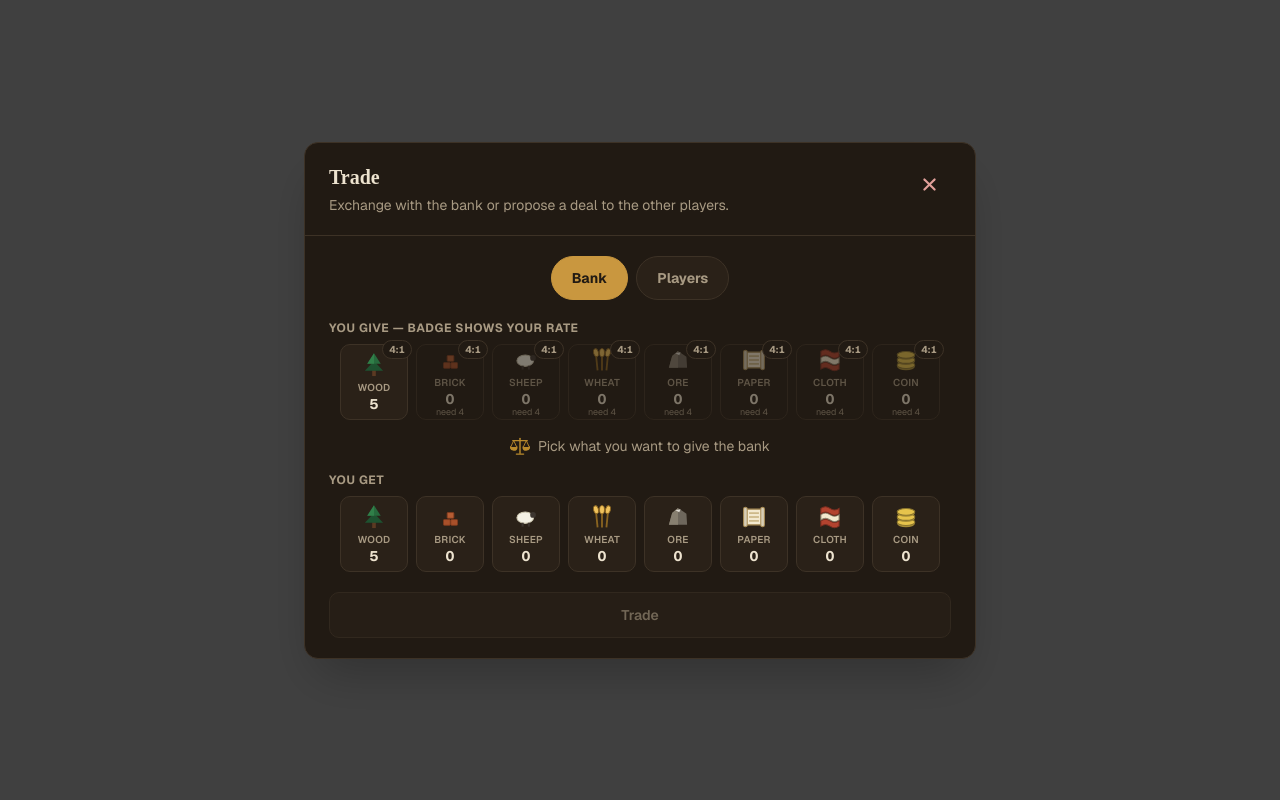
Scenario: TradeModal — bank › surfaces a failed bank trade without clearing the selection
The width and height of the screenshot is (1280, 800).
Click the button with aria-label "Give Wood": (374, 382) [340,344,408,420]
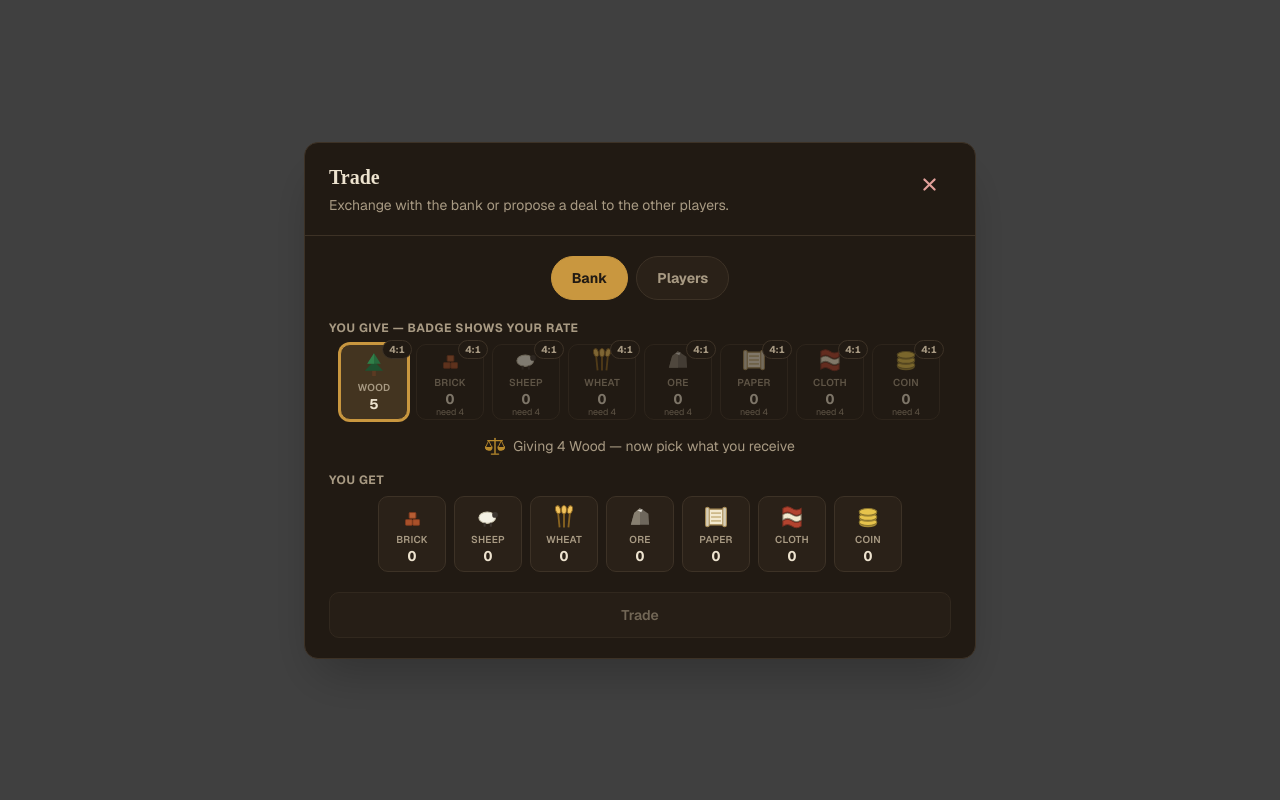
Click the button with aria-label "Receive Ore": (640, 534) [606,496,674,572]
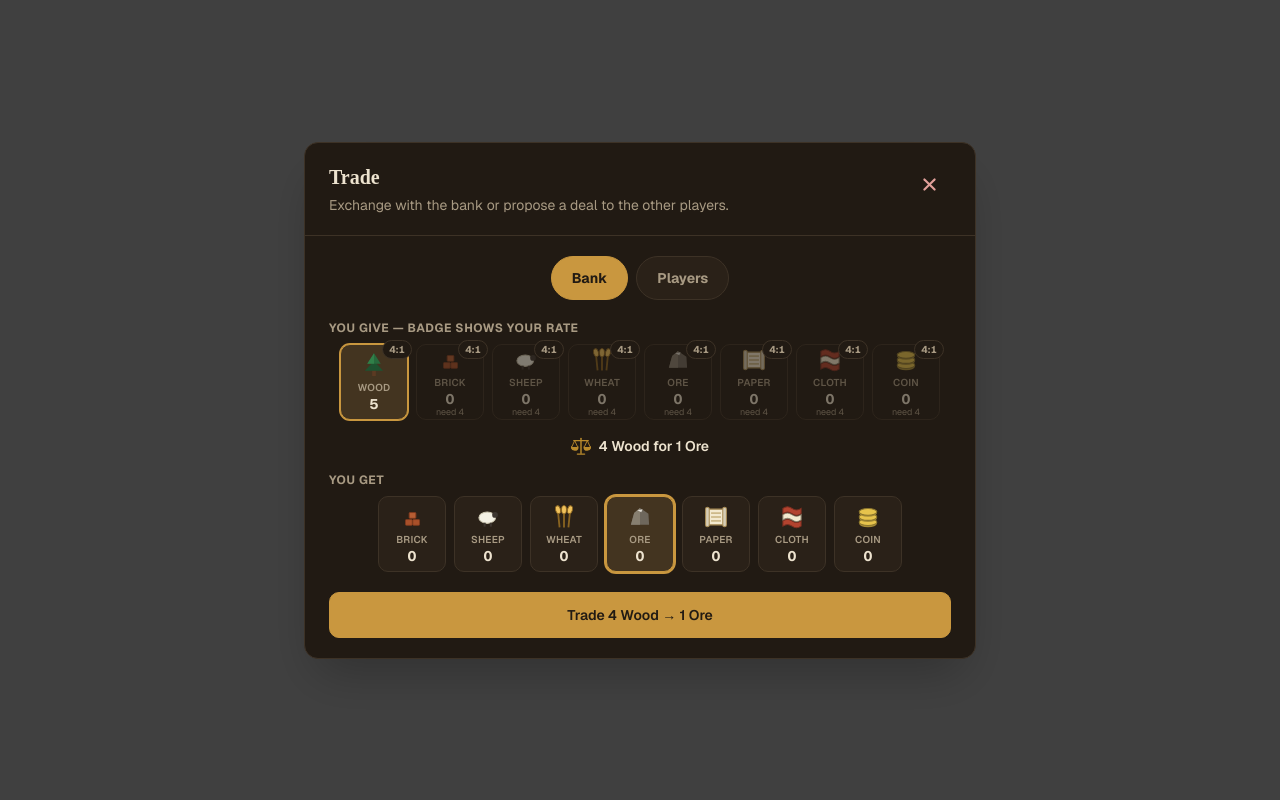
Click the button "Trade 4 Wood → 1 Ore": (640, 614) [329,592,951,638]
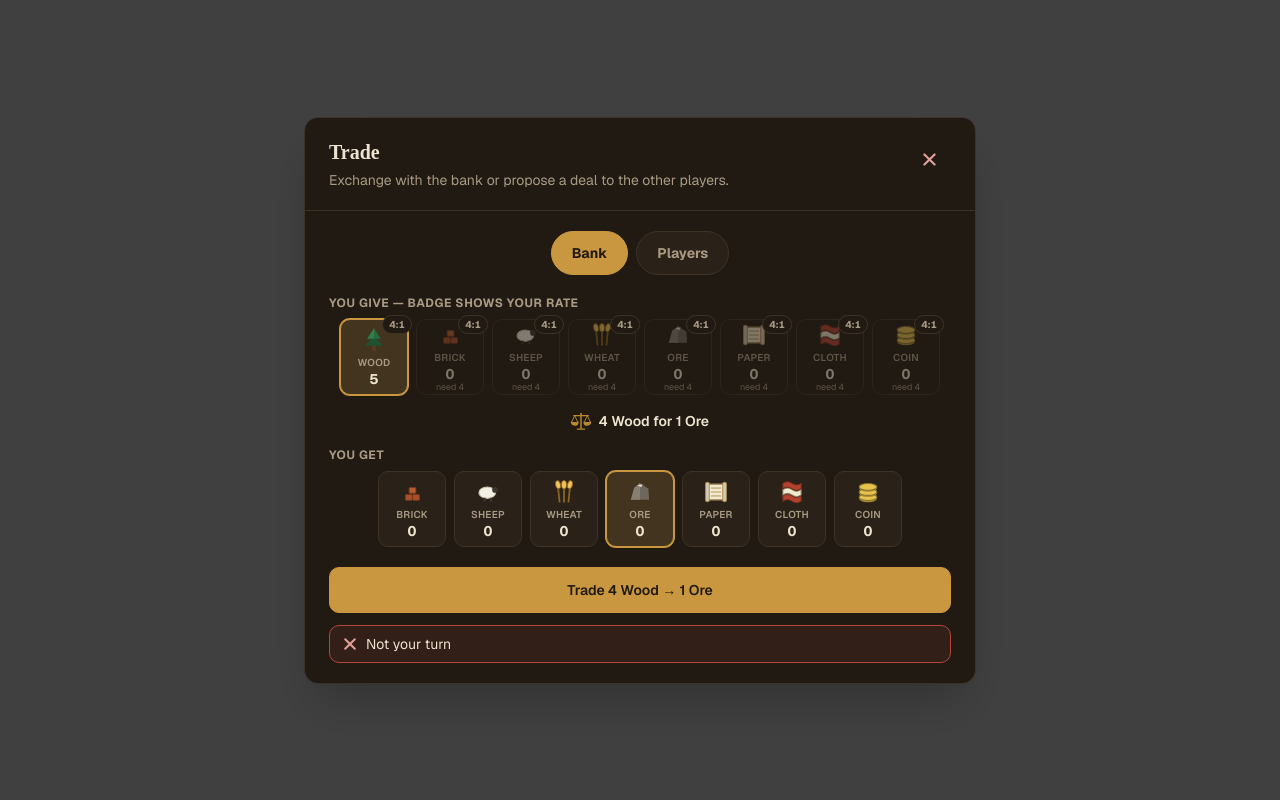
Result: the button "Trade 4 Wood → 1 Ore" is enabled at [329,566,951,612]
Result: the message reads "Not your turn" at [366,634,451,652]
